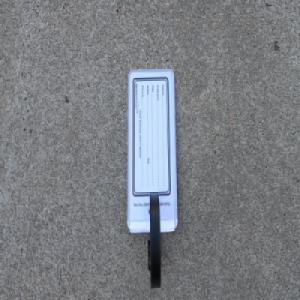LuggageTag: (125, 67, 179, 293)
